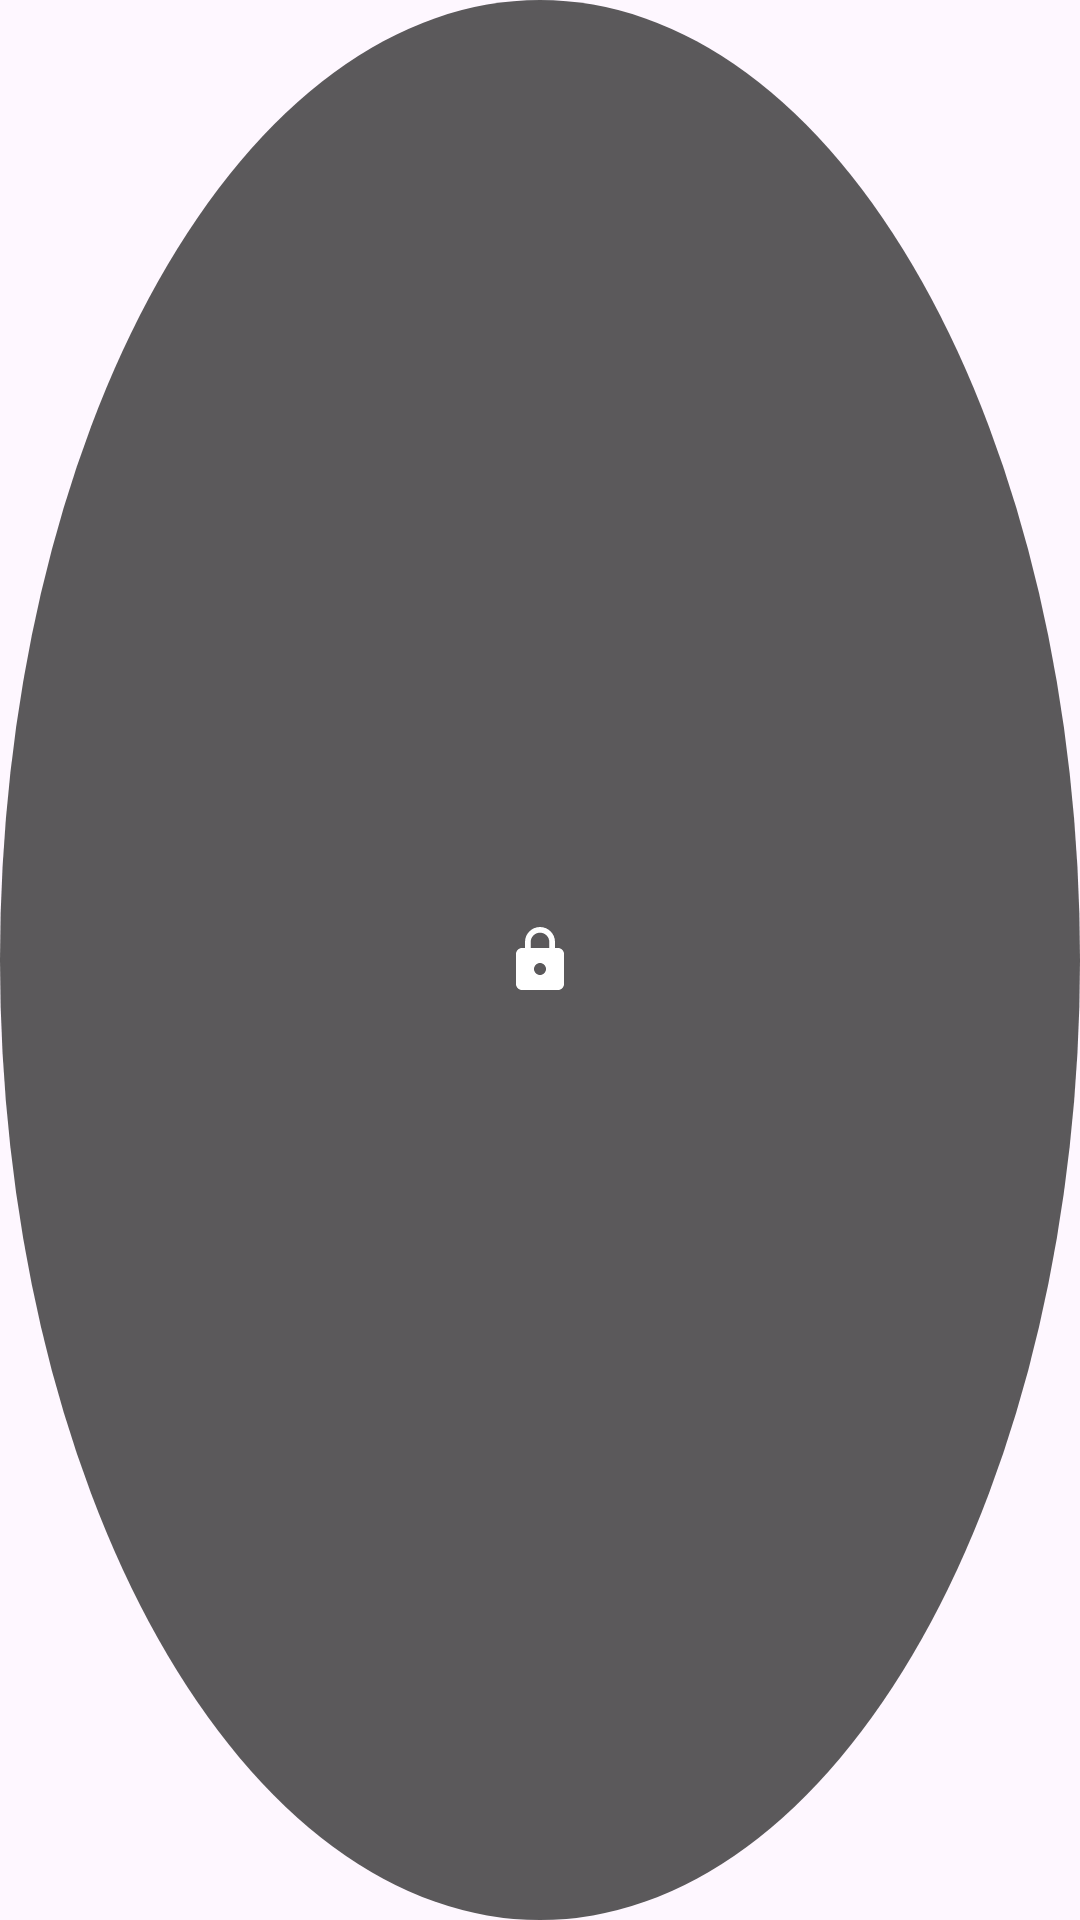

Named icons in this screenshot (1080 × 1920) and their bounding boxes, {"x1": x1, "y1": y1, "x2": x2, "y2": y2}:
Lock Screen: {"x1": 516, "y1": 927, "x2": 564, "y2": 990}
